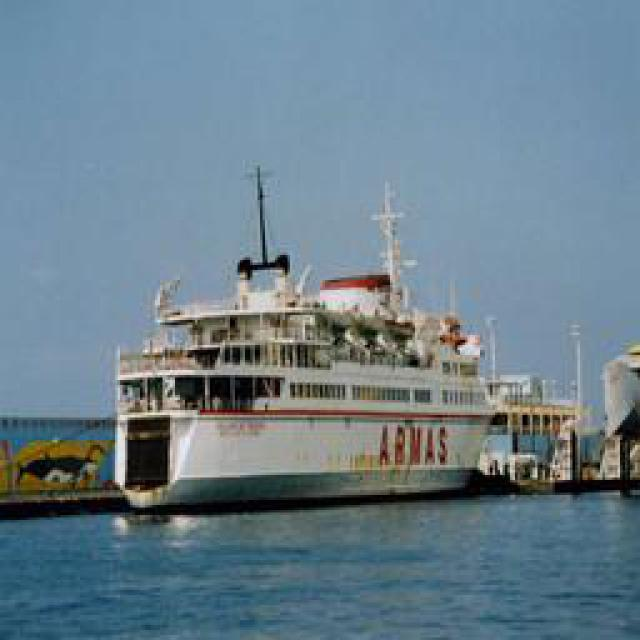Ship: (118, 160, 523, 513)
